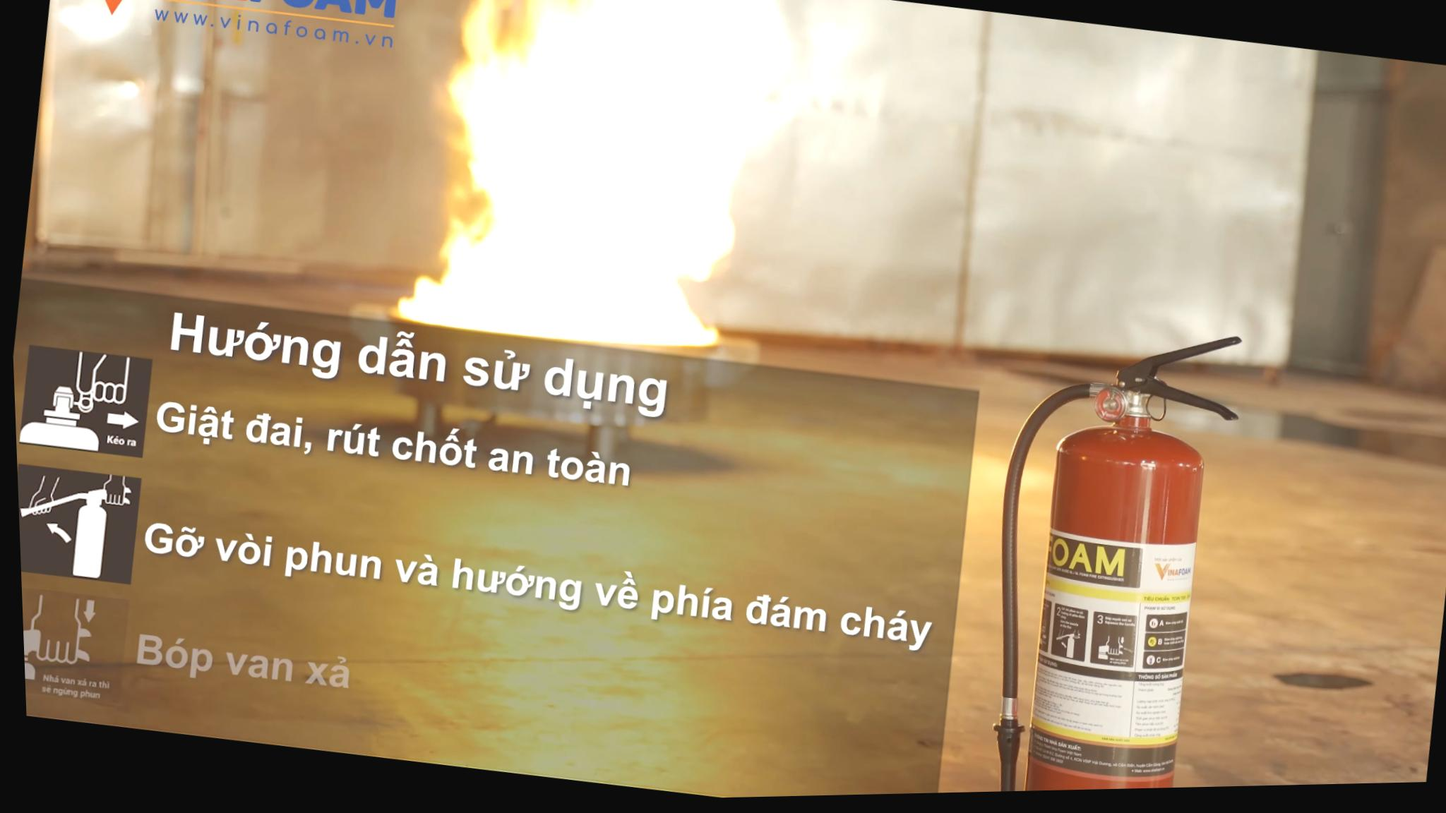FireExtinguisher: (953, 301, 1262, 797)
not: (340, 0, 838, 480), (395, 438, 776, 806), (47, 0, 243, 44)
